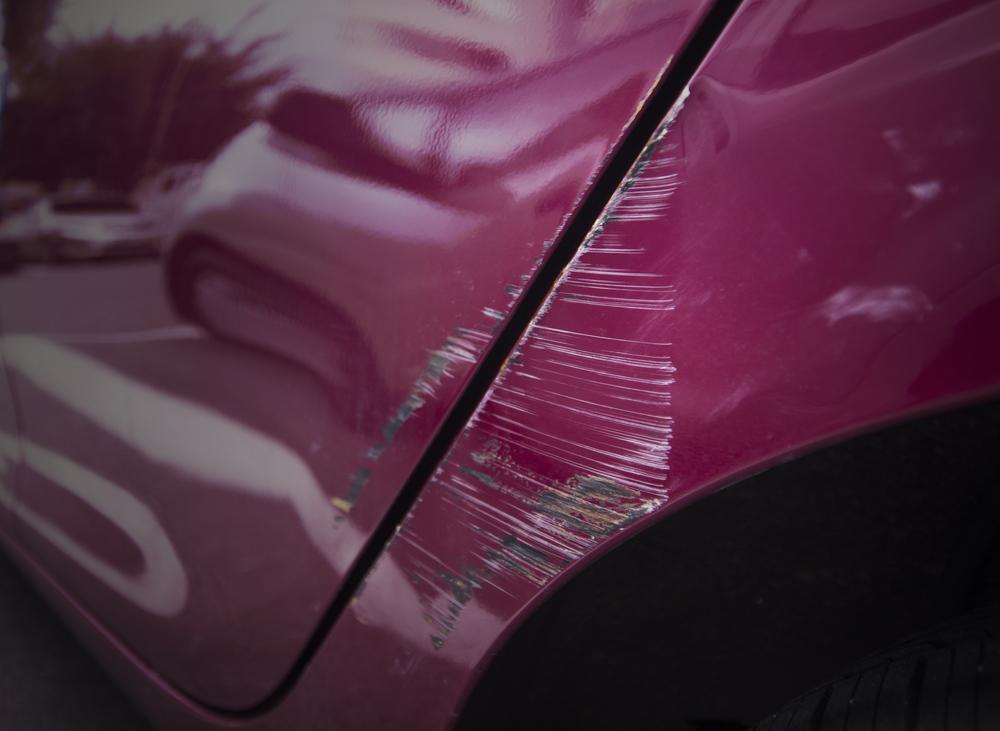scratch: (388, 88, 685, 659), (327, 176, 596, 541)
